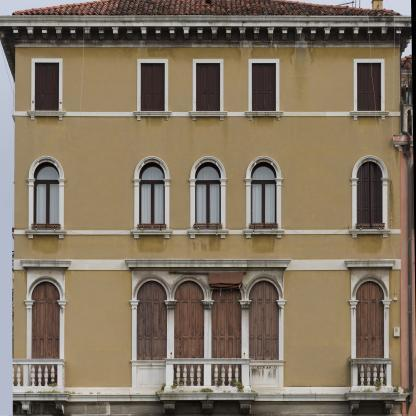Balcony: (167, 359, 249, 393), (13, 359, 64, 393), (352, 359, 392, 393)
Building Outline: (0, 0, 412, 416)
Cornice: (124, 259, 291, 271), (344, 260, 396, 270), (20, 260, 71, 270)
Door: (211, 280, 241, 393), (174, 280, 204, 393), (31, 281, 60, 393), (356, 281, 384, 392)
Facade: (0, 0, 412, 415)
Floor: (14, 270, 401, 393), (14, 151, 401, 261)
Floor Slab: (14, 140, 401, 150), (14, 260, 401, 270), (14, 393, 401, 403)
Molding: (14, 26, 402, 47)
Roof: (12, 0, 403, 16)
Sill: (24, 229, 67, 239), (187, 229, 229, 239), (131, 229, 173, 239), (27, 110, 66, 120), (188, 111, 227, 121), (245, 111, 284, 121), (348, 229, 391, 238), (243, 229, 285, 238), (350, 111, 389, 120), (133, 111, 172, 120)
Top Floor: (14, 26, 401, 140)
Window: (136, 280, 167, 360), (249, 280, 279, 360), (139, 162, 165, 229), (195, 162, 221, 229), (251, 162, 277, 229), (357, 161, 383, 228), (33, 162, 59, 228), (357, 63, 381, 111), (35, 63, 59, 111), (141, 63, 165, 111), (196, 63, 220, 111), (252, 63, 276, 111)
